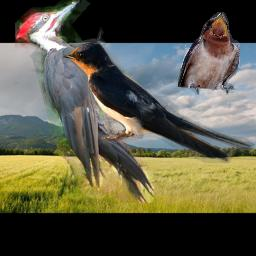Swallow: (57, 36, 255, 163), (178, 12, 240, 95)
Woodpecker: (15, 0, 154, 203)
